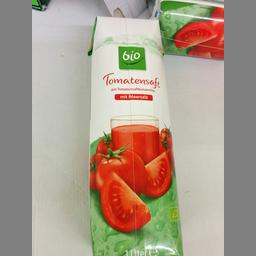juice: (87, 14, 182, 255)
